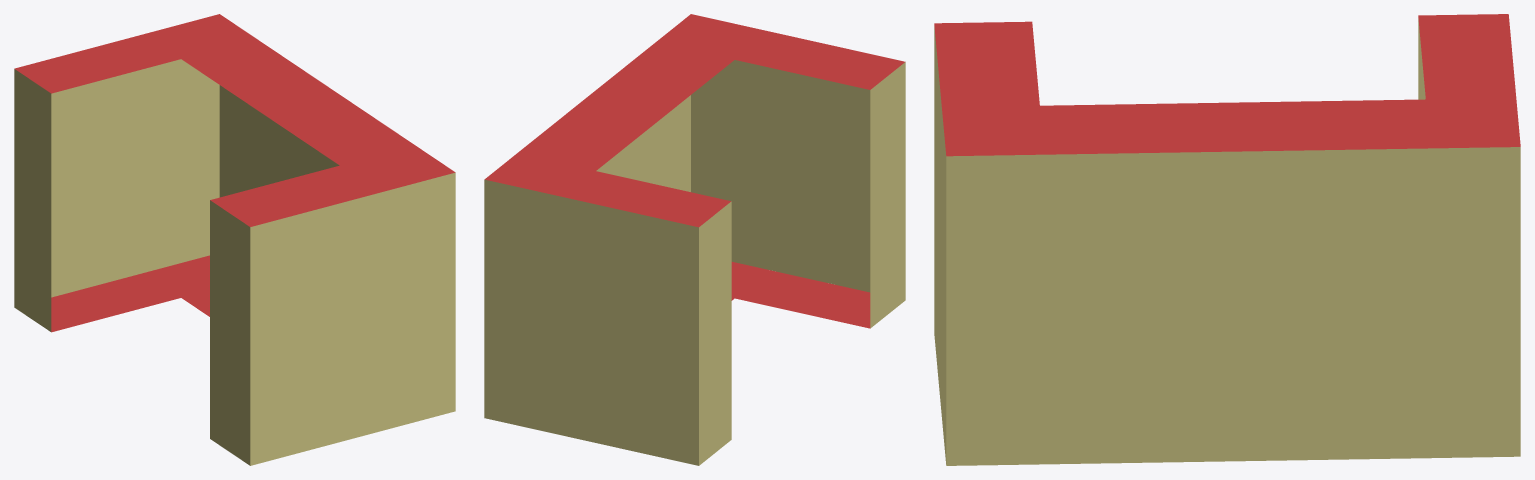
3 renders of one model, left to right at view 1: azimuth 30°, elevation 25°; view 2: azimuth 150°, elevation 25°; view 3: azimuth 270°, elevation 25°, orthographic. The views are drawn at different scales.
Visible parts, largest first — view 1: group_4, group_3, group_5; view 2: group_4, group_3, group_5; view 3: group_4, group_3.
Part boxes in pixels (x1=…): group_4: x1=14, y1=59, x2=455, y2=465; group_3: x1=14, y1=14, x2=455, y2=226; group_5: x1=51, y1=255, x2=209, y2=332; group_4: x1=484, y1=60, x2=905, y2=465; group_3: x1=484, y1=14, x2=905, y2=227; group_5: x1=731, y1=262, x2=870, y2=328; group_4: x1=934, y1=18, x2=1520, y2=465; group_3: x1=934, y1=14, x2=1520, y2=156.
Bounding box in the file's own units: 7.09 × 12.35 × 7.2.
